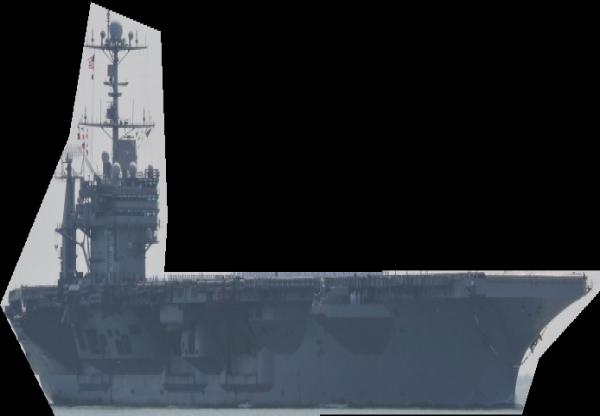Aircraft Carrier: (0, 1, 600, 416)
